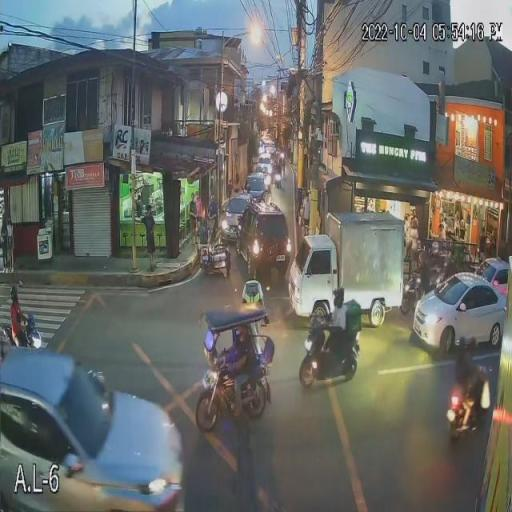helmet: (456, 338, 474, 357), (330, 288, 344, 308), (11, 284, 21, 294)
motorcycle: (298, 320, 360, 390), (444, 366, 493, 443), (0, 309, 44, 353)
rider: (454, 338, 492, 413), (321, 287, 354, 370), (8, 284, 30, 348)
